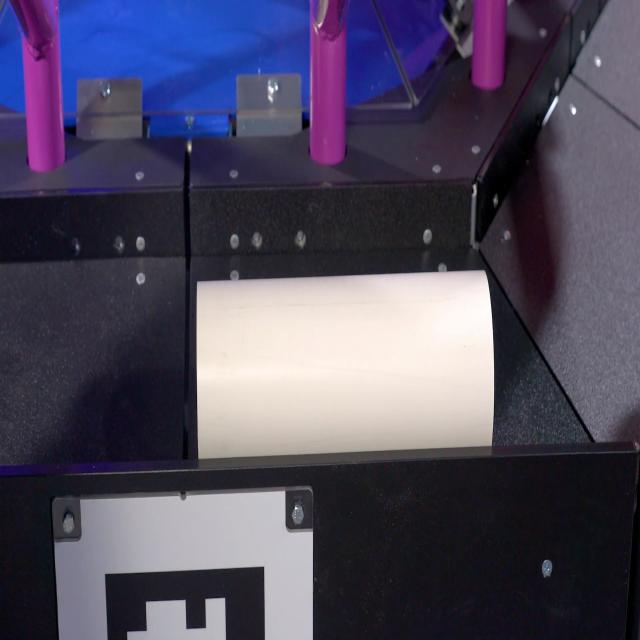Coral: (195, 268, 495, 459)
